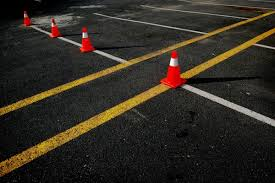cone: (162, 51, 186, 90), (79, 26, 95, 54), (48, 16, 61, 39), (22, 10, 32, 27)
